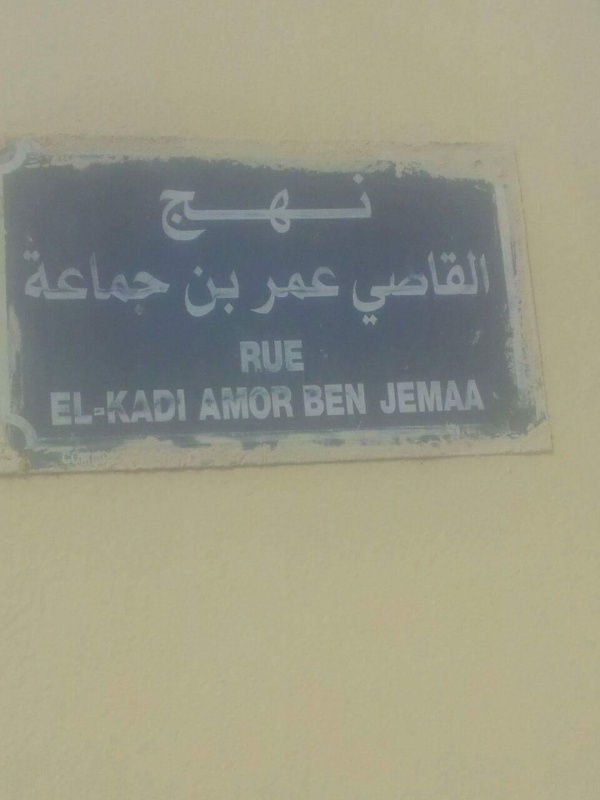text: (353, 249, 368, 327), (369, 249, 384, 327), (385, 249, 400, 327), (401, 249, 416, 327), (417, 249, 432, 327), (433, 249, 448, 327), (449, 249, 464, 327), (465, 249, 480, 327), (481, 249, 496, 327), (33, 249, 48, 319), (49, 249, 64, 319), (65, 249, 80, 319), (81, 249, 96, 319), (97, 249, 112, 319), (113, 249, 128, 319), (129, 249, 144, 319), (145, 249, 160, 319), (177, 172, 192, 241), (193, 172, 208, 241), (209, 172, 224, 241), (225, 172, 240, 241), (241, 172, 256, 241), (257, 172, 272, 241), (273, 172, 288, 241), (289, 172, 304, 241), (305, 172, 320, 241), (321, 172, 336, 241), (337, 172, 352, 241), (353, 172, 368, 241), (162, 172, 176, 241), (193, 262, 208, 321), (209, 262, 224, 321), (225, 262, 240, 321), (21, 249, 32, 319), (257, 266, 272, 317), (273, 266, 288, 317), (289, 266, 304, 317), (305, 266, 320, 317), (321, 266, 336, 317), (181, 262, 192, 321), (161, 249, 170, 319), (337, 266, 349, 317), (65, 389, 80, 427), (81, 389, 96, 427), (97, 389, 112, 427), (113, 389, 128, 427), (129, 389, 144, 427), (145, 389, 160, 427), (161, 389, 176, 427), (209, 385, 224, 421), (225, 385, 240, 421), (241, 385, 256, 421), (257, 385, 272, 421), (273, 385, 288, 421), (50, 389, 64, 427), (241, 339, 256, 374), (257, 339, 272, 374), (273, 339, 288, 374), (289, 339, 304, 374), (385, 379, 400, 414), (401, 379, 416, 414), (417, 379, 432, 414), (433, 379, 448, 414), (449, 379, 464, 414), (465, 379, 480, 414), (305, 383, 320, 417), (321, 383, 336, 417), (337, 383, 352, 417), (353, 383, 368, 417), (177, 389, 187, 427), (249, 266, 256, 317), (369, 172, 374, 241), (201, 385, 208, 421), (241, 262, 245, 321), (289, 385, 295, 421), (379, 379, 384, 414), (481, 379, 486, 414), (302, 383, 304, 417)
